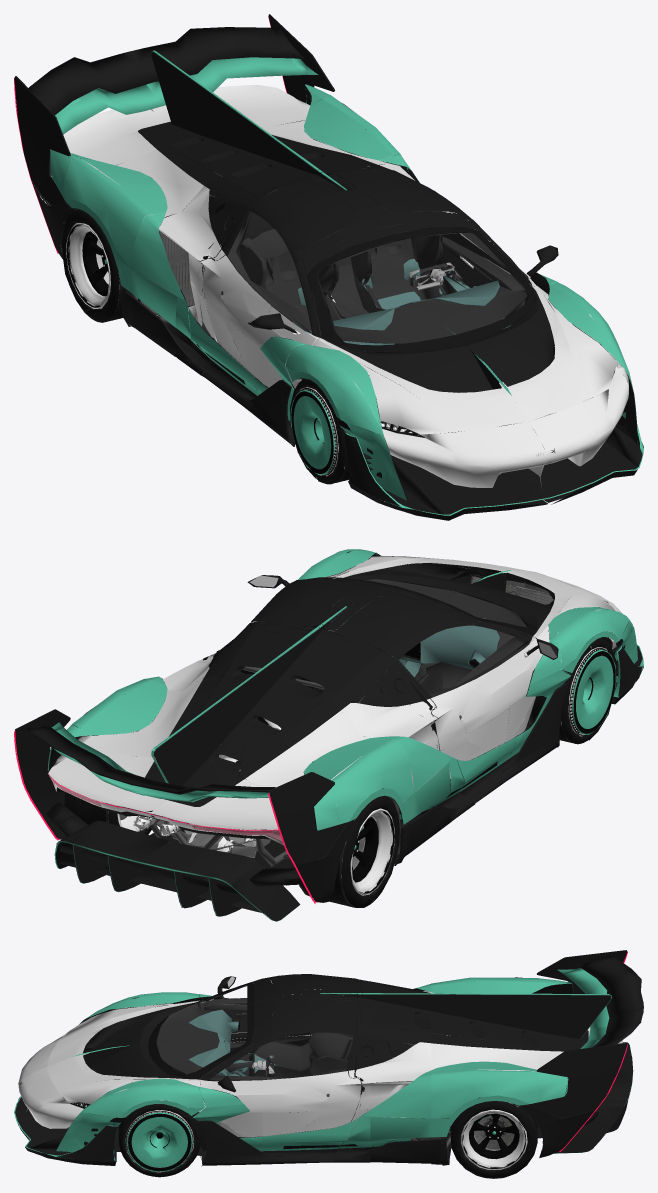
Rendered from abyss.glb.
The picture shows the model from 3 angles, top to bottom: view 1: azimuth 30°, elevation 25°; view 2: azimuth 150°, elevation 25°; view 3: azimuth 270°, elevation 25°; orthographic projection. The views are drawn at different scales.
Visible parts, largest first — view 1: roof, door.R, nose.R, cockpit, nose.L, door.L, fender.R, wheel.rear.R, deck, wheel.front.L, chassis, wheel.front.R (+1 smaller); view 2: roof, door.R, nose.R, tail.R, tail.L, cockpit, door.L, wheel.rear.R, fender.R, deck, chassis, quarter.R (+3 smaller); view 3: roof, door.L, nose.L, cockpit, wheel.rear.L, fender.L, door.R, deck, tail.L, chassis, nose.R, wheel.front.R (+2 smaller).
Part boxes in pixels (x1,y1,x2,y2): roof: (15,14,623,434); door.R: (14,51,381,426); nose.R: (250,241,550,515); cockpit: (201,180,543,455); nose.L: (395,219,643,497); door.L: (131,14,621,366); fender.R: (175,289,263,411); wheel.rear.R: (59,200,140,322); deck: (60,95,408,268); wheel.front.L: (365,207,491,344); chassis: (139,109,637,520); wheel.front.R: (241,229,343,334); roof: (15,550,614,860); door.R: (131,607,619,868); nose.R: (456,571,643,773); tail.R: (138,714,345,921); tail.L: (14,714,200,892); cockpit: (138,578,533,814); door.L: (15,551,380,804); wheel.rear.R: (283,788,407,907); fender.R: (425,707,518,820); deck: (72,679,414,844); chassis: (122,574,640,868); quarter.R: (201,793,414,866); roof: (47,952,626,1115); door.L: (89,994,643,1163); nose.L: (14,1039,262,1177); cockpit: (20,984,361,1129); wheel.rear.L: (441,1095,542,1178); fender.L: (263,1109,370,1164); door.R: (82,950,643,1036); deck: (431,977,538,1118); tail.L: (533,994,633,1157); chassis: (17,978,562,1165); nose.R: (14,978,262,1112); wheel.front.R: (239,994,351,1076).
Size of the model in its own units: 2.05 by 1.14 by 4.8.
31 materials, 6 textured.
